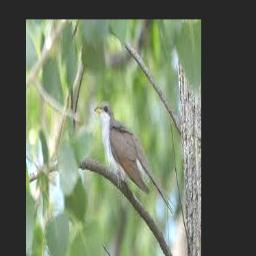Cuckoo: (94, 100, 175, 216)
